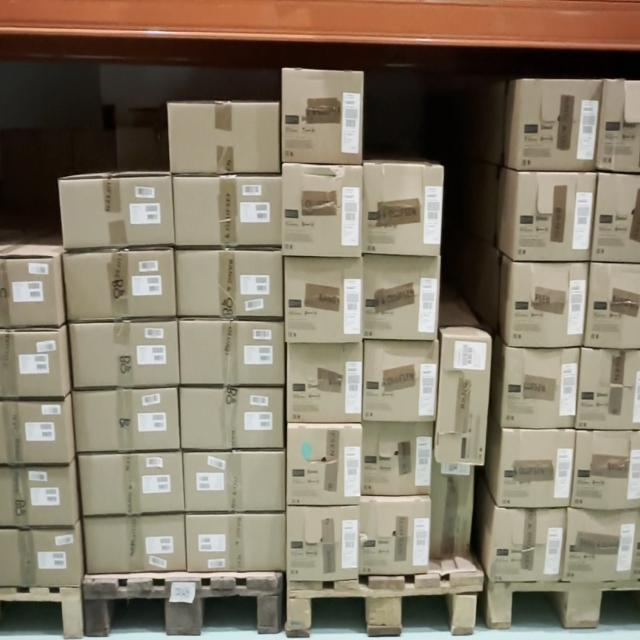box: (60, 175, 175, 248), (62, 250, 176, 319), (282, 70, 362, 166), (170, 104, 278, 173), (520, 80, 603, 169), (515, 171, 597, 261), (175, 181, 283, 248), (70, 322, 177, 386), (363, 165, 441, 252), (176, 253, 282, 317), (437, 339, 491, 463), (284, 167, 361, 253), (179, 322, 283, 385), (80, 451, 184, 514), (73, 388, 181, 448), (286, 259, 362, 344), (182, 389, 284, 451), (511, 264, 588, 346), (365, 258, 439, 339), (503, 350, 579, 428), (84, 514, 184, 572), (499, 429, 574, 505), (364, 342, 437, 419), (491, 507, 568, 580), (287, 508, 360, 584), (185, 454, 283, 510), (289, 349, 361, 425), (187, 518, 286, 570), (288, 429, 360, 500), (362, 502, 429, 574), (364, 426, 432, 494)
